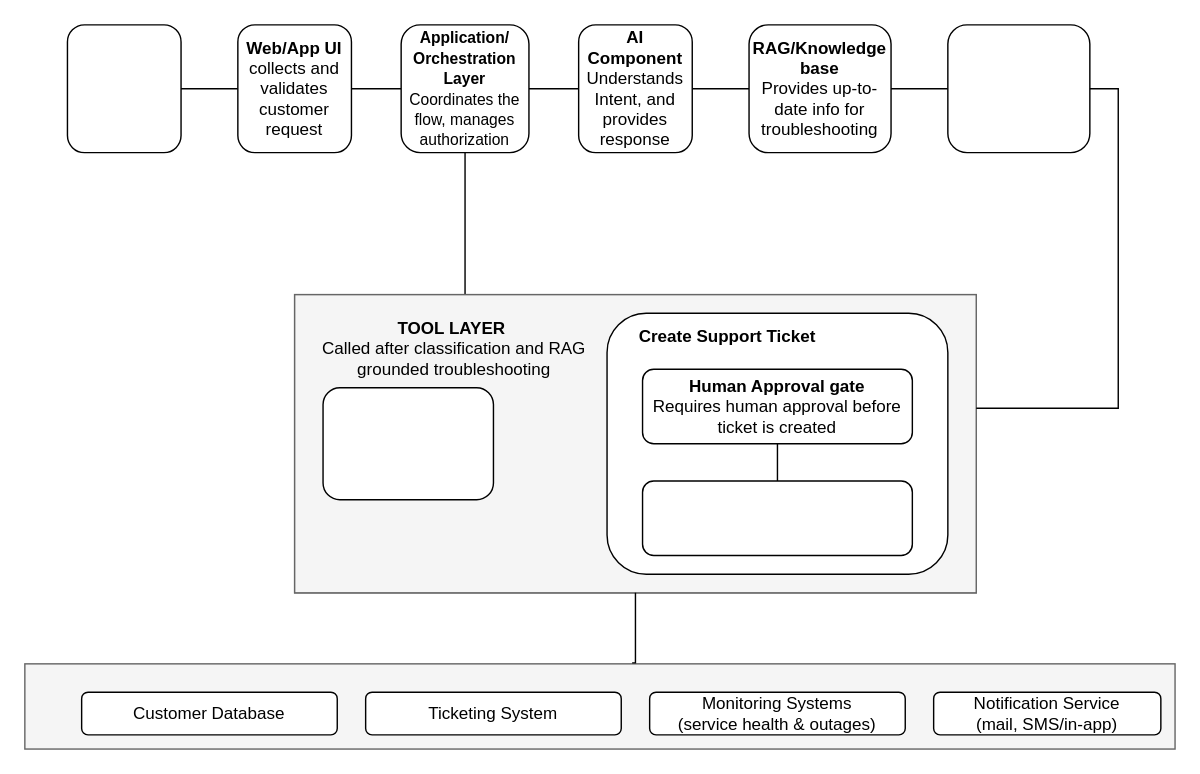
The diagram is 1200 pixels wide and 774 high, and some of its shapes have lost their labels. The box of each missing label's shape, as (x1, y1, x2, y2) in pixels:
Check Outage Status called if the customer's issue is classified as outage: (322, 386, 493, 500)
Customer submits an issue via web/mobile: (66, 23, 181, 153)
Service Status Too l checks real-time status of services and outages: (946, 23, 1090, 153)
Ticket Created Forwarded to support sytem for handling: (641, 480, 912, 556)
